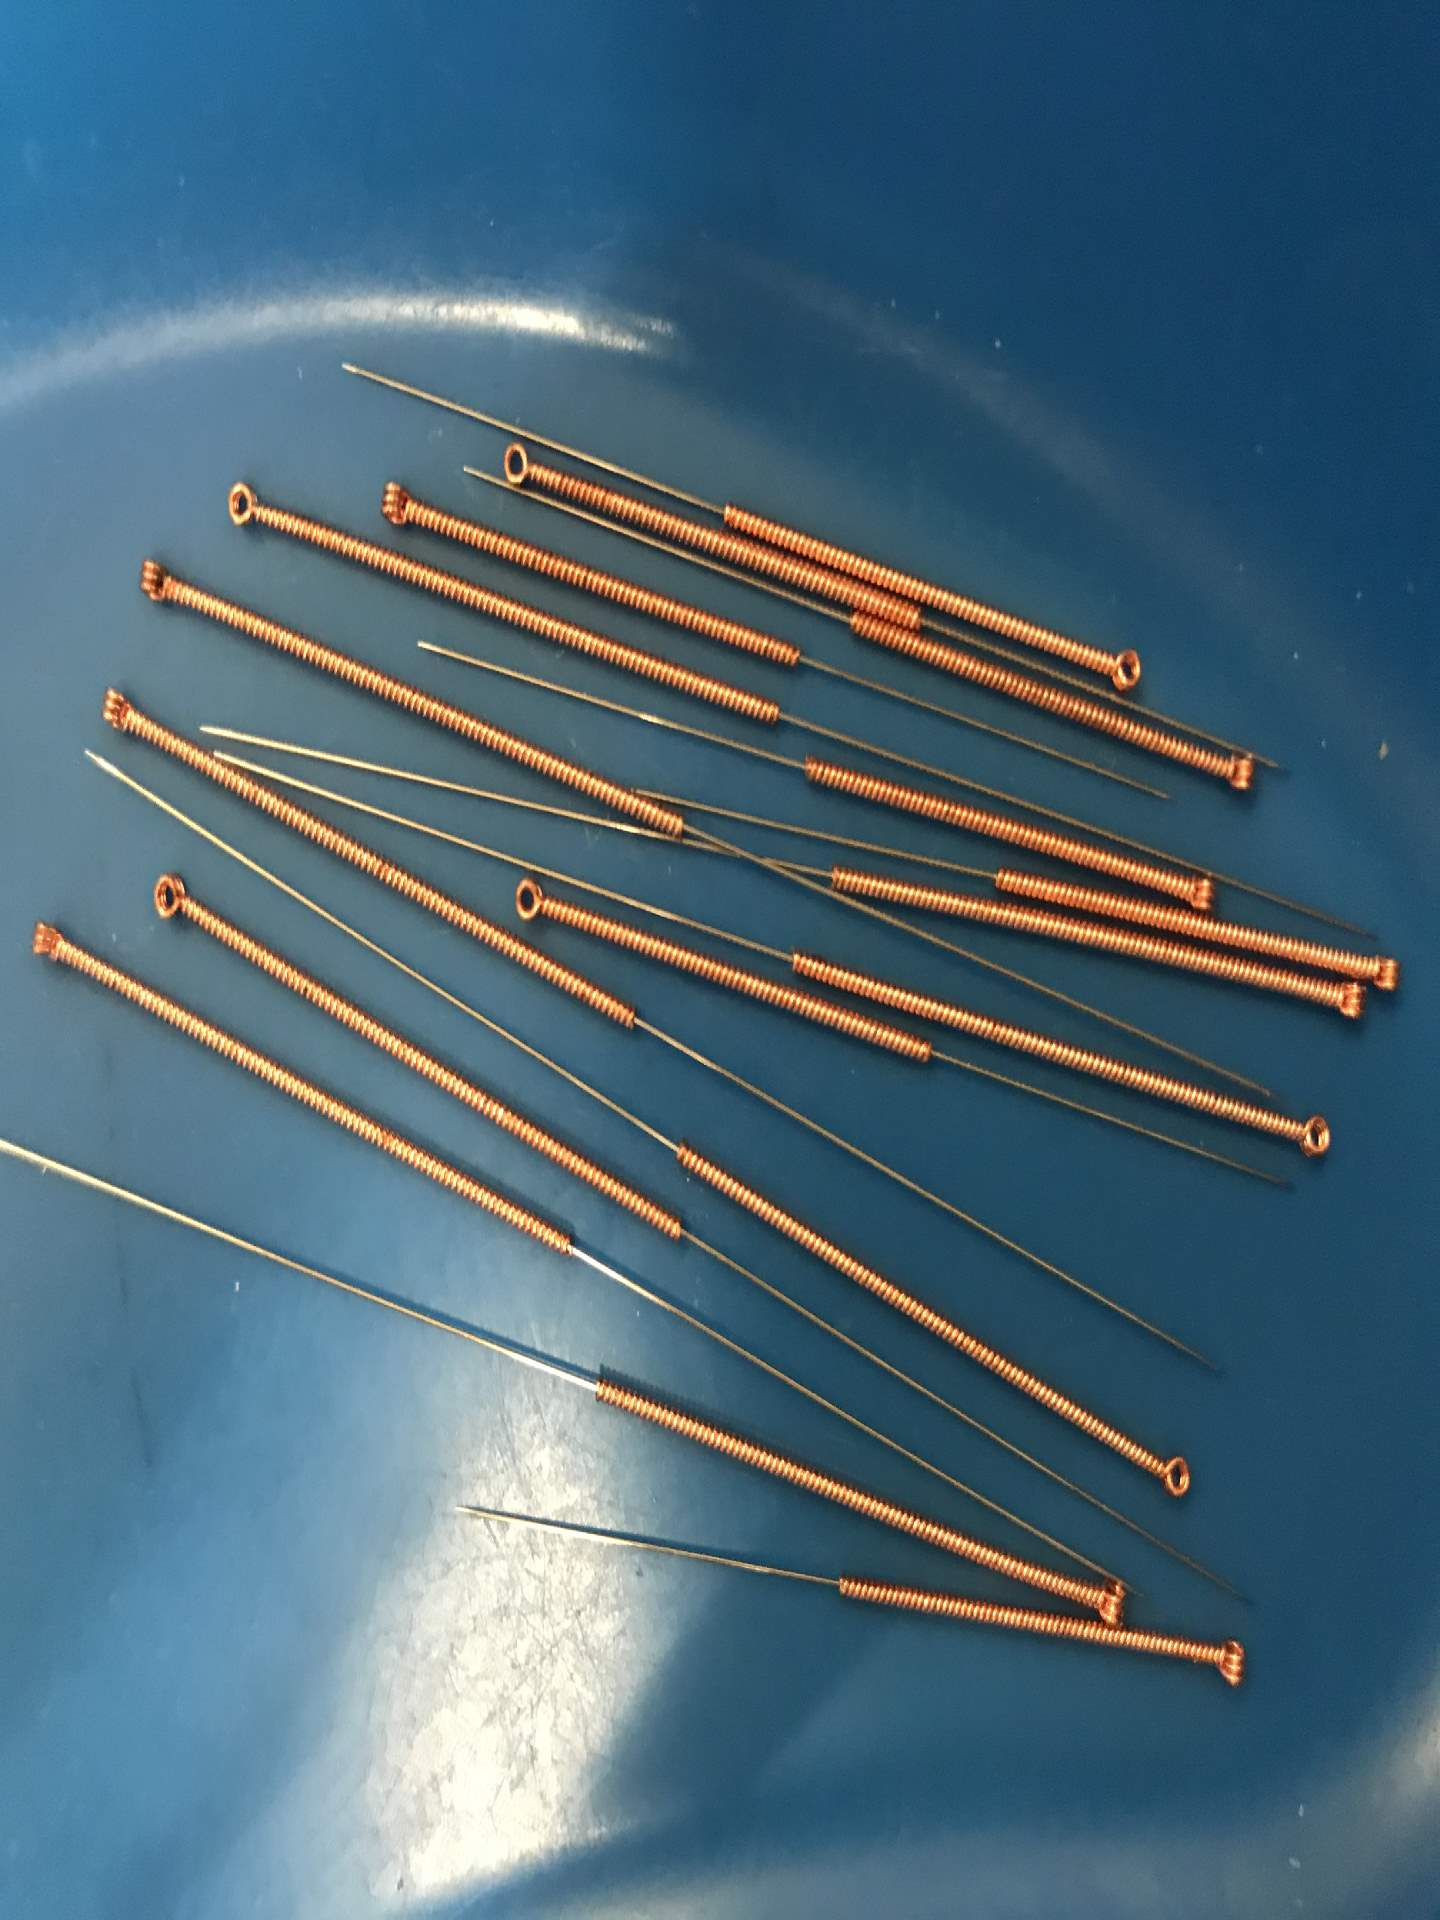needle: (206, 466, 284, 544), (116, 544, 192, 623), (132, 862, 210, 936), (11, 901, 85, 978), (1190, 1624, 1263, 1698), (1274, 1099, 1346, 1172), (82, 671, 150, 748), (1199, 736, 1271, 807), (1086, 630, 1159, 700), (483, 429, 554, 499), (365, 469, 436, 538), (1137, 1442, 1209, 1509), (496, 868, 566, 931), (1082, 1569, 1144, 1630), (1165, 859, 1231, 915), (1355, 934, 1410, 998), (1314, 978, 1376, 1028)
